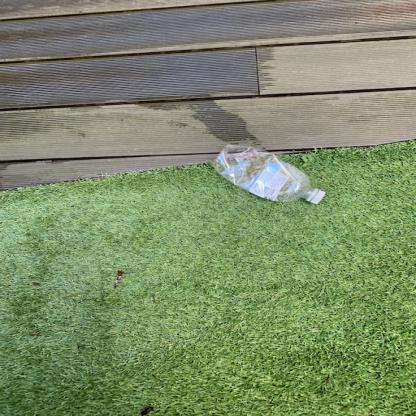plastic-bottles: (213, 134, 336, 219)
